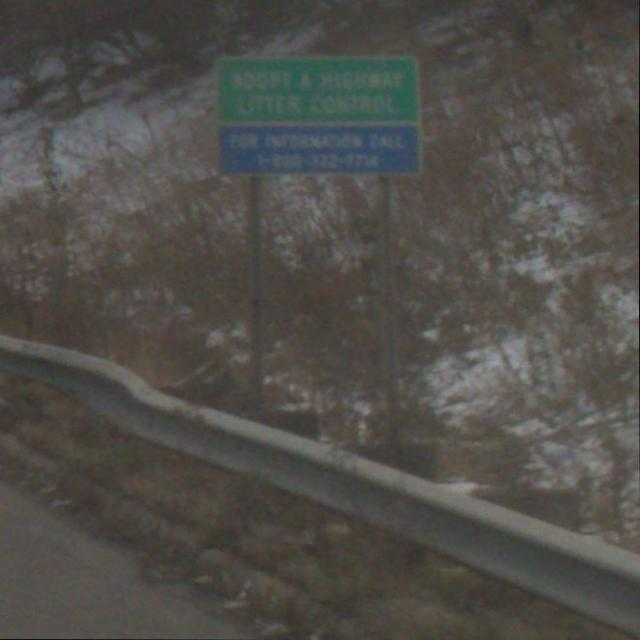Guard rail: (0, 332, 640, 640)
